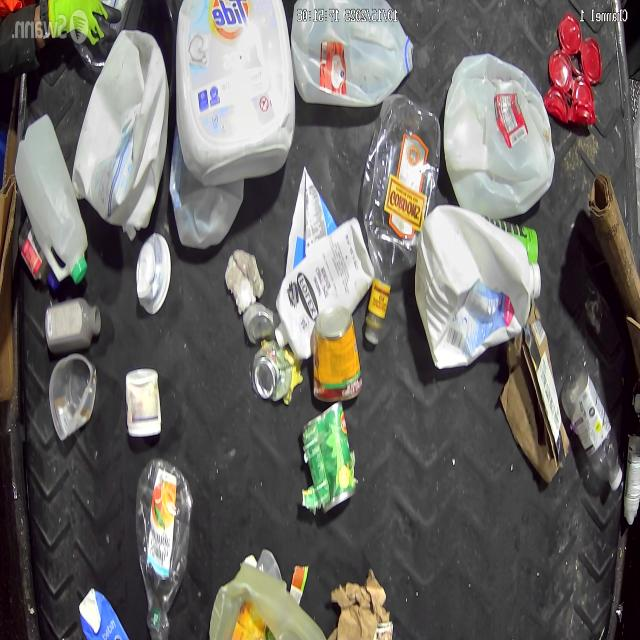can: (302, 402, 357, 514), (312, 305, 364, 405), (251, 340, 300, 404), (135, 232, 172, 316), (124, 366, 162, 440), (242, 302, 279, 345)
milk_jug: (413, 205, 541, 372), (71, 29, 170, 241), (443, 52, 556, 221), (288, 0, 414, 109), (13, 113, 88, 285), (208, 565, 326, 640), (168, 150, 244, 247)
non_white_jug: (176, 0, 296, 185)
plastic_bottle: (361, 90, 442, 344), (134, 454, 194, 640), (560, 366, 623, 491)
